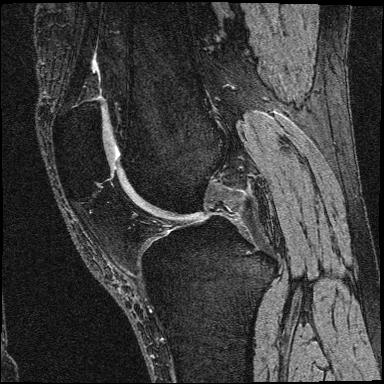SagKneeJointArea: (51, 100, 280, 307)
